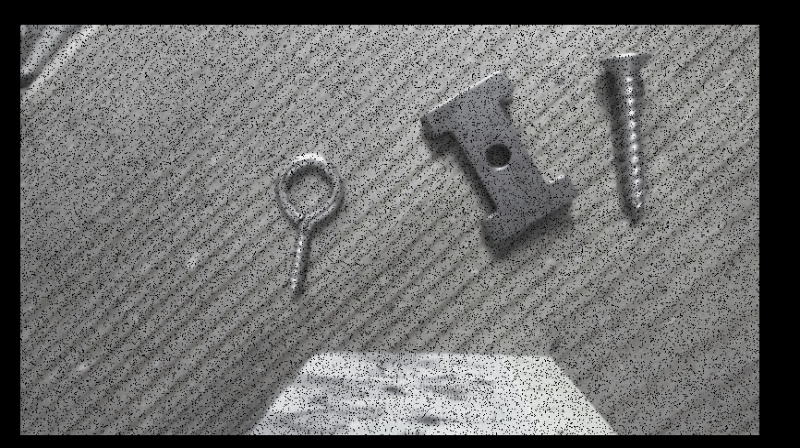O001: (273, 152, 348, 302)
O002: (415, 67, 579, 248)
S001: (595, 48, 656, 224)
